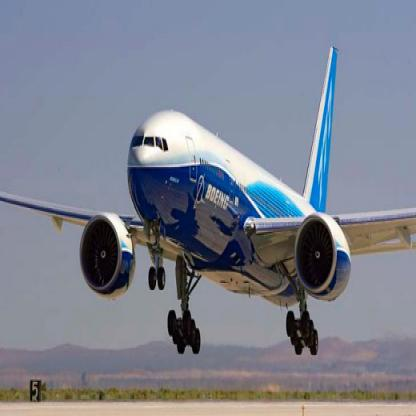CIV_Plane: (0, 41, 415, 357)
